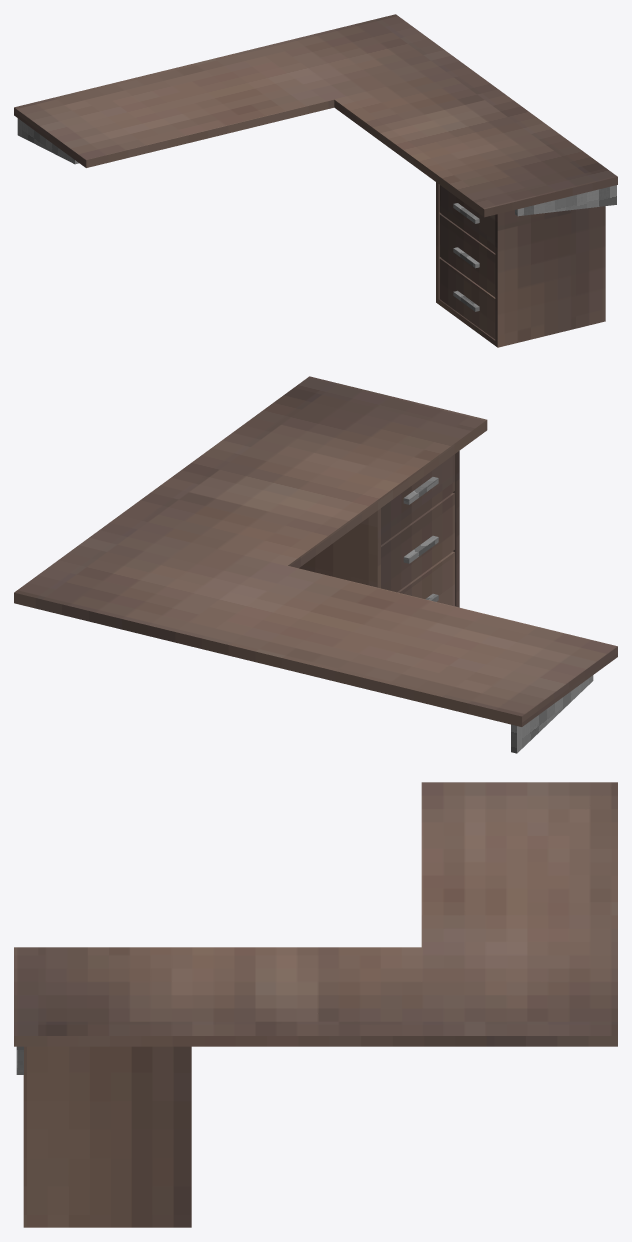
Rendered from SM_Desk.fbx.
The picture shows the model from 3 angles, top to bottom: view 1: azimuth 30°, elevation 25°; view 2: azimuth 150°, elevation 25°; view 3: azimuth 270°, elevation 25°; orthographic projection. The views are drawn at different scales.
Parts seen in each view (by area): view 1: SM_Desk; view 2: SM_Desk; view 3: SM_Desk.
Boxes of the visible parts, bbox=[...] form: SM_Desk: bbox=[14, 14, 617, 347]; SM_Desk: bbox=[14, 376, 617, 753]; SM_Desk: bbox=[14, 782, 617, 1227].
Bounding box in the file's own units: 248 × 90.18 × 250.
2 materials, 2 textured.
